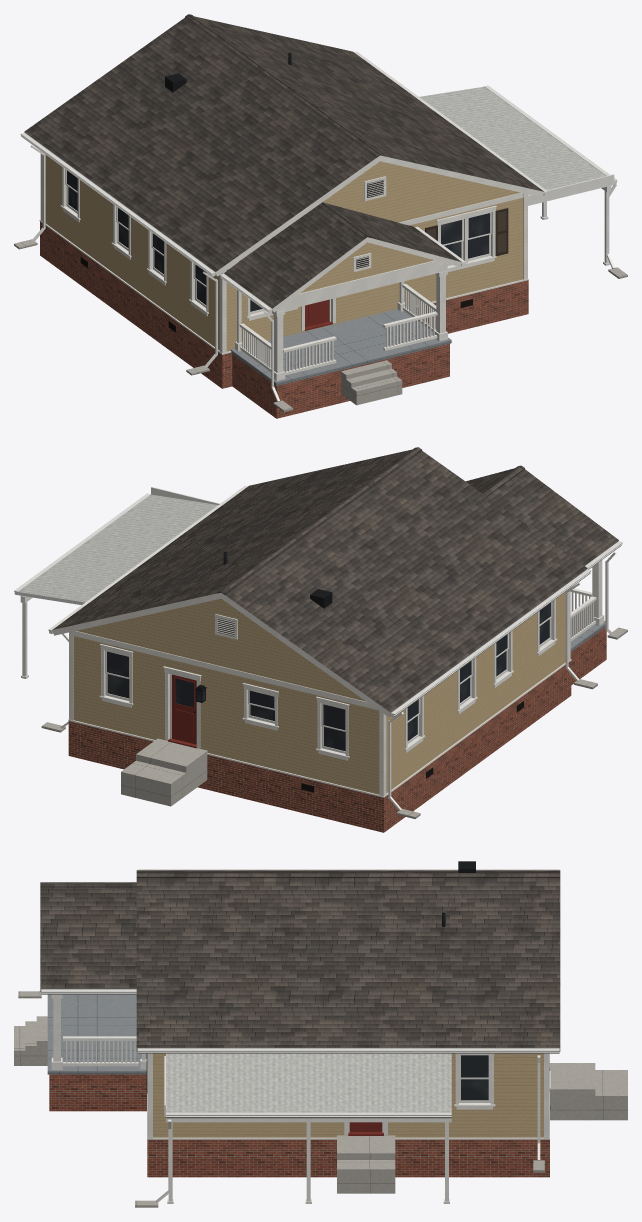
The model's file is hernandez-house.glb.
3 renders of one model, top to bottom at view 1: azimuth 30°, elevation 25°; view 2: azimuth 150°, elevation 25°; view 3: azimuth 270°, elevation 25°, orthographic. The views are drawn at different scales.
Parts seen in each view (by area): view 1: Roof, House, Porch, Carport; view 2: Roof, House, Carport, Porch; view 3: Roof, House, Carport, Porch.
Part boxes in pixels (box(x1,y1,x2,y2)): Roof: box(14, 14, 547, 412); House: box(39, 154, 528, 388); Porch: box(230, 242, 451, 418); Carport: box(419, 85, 627, 278); Roof: box(41, 447, 627, 818); House: box(68, 591, 571, 832); Carport: box(14, 487, 219, 678); Porch: box(121, 560, 606, 806); Roof: box(18, 861, 560, 1172); House: box(146, 1053, 550, 1177); Carport: box(135, 1053, 451, 1207); Porch: box(14, 994, 627, 1120).
Size of the model in its own units: 14.21 by 6.29 by 15.8.
Materials: 16 (13 with a texture image).
